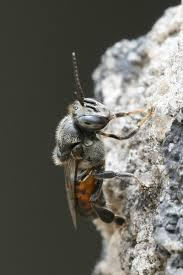Meliponula: (42, 45, 149, 230)
